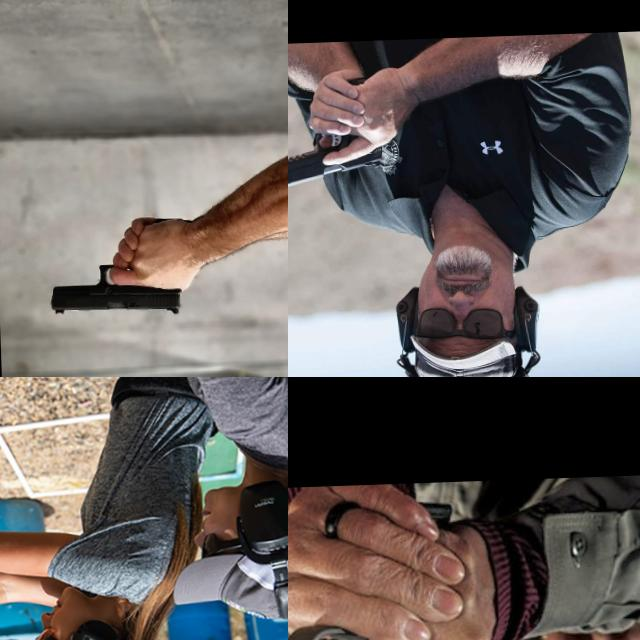handgun: (45, 259, 184, 321), (288, 127, 384, 199), (0, 598, 49, 640)
